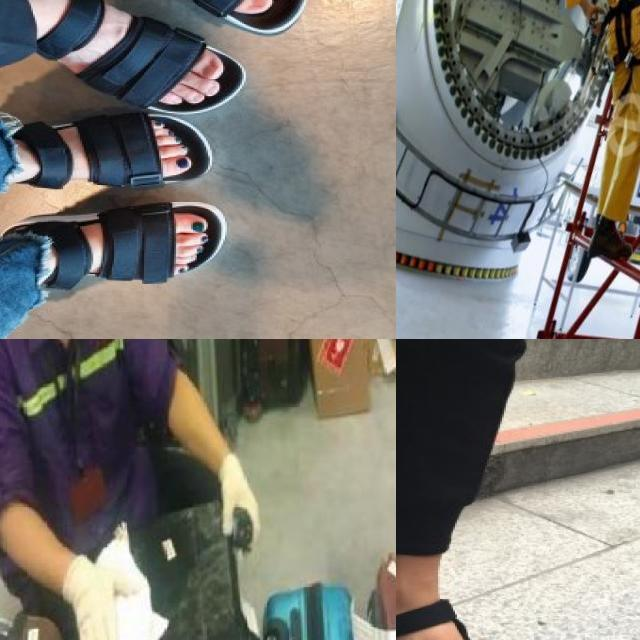Harness: (607, 0, 640, 66)
Sandals: (0, 210, 233, 309), (0, 113, 222, 185)
hand_glove: (70, 550, 136, 640), (217, 455, 260, 552)
person: (0, 339, 257, 640)
